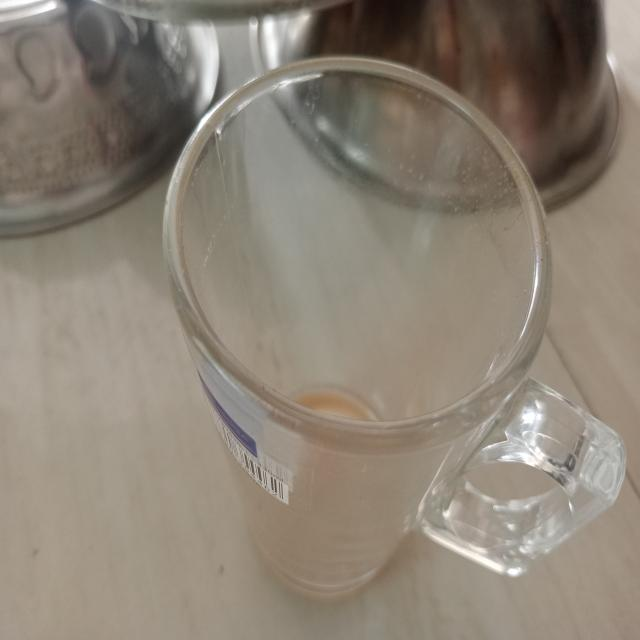glass-VX4N: (160, 57, 626, 607)
